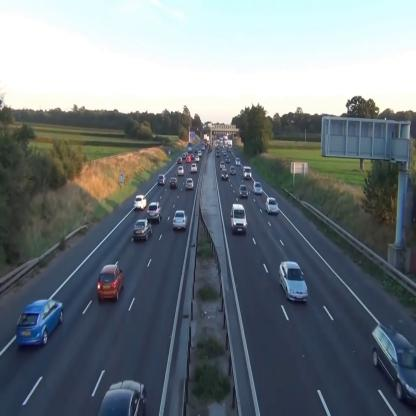car: (371, 322, 416, 408), (15, 298, 64, 348), (96, 379, 146, 416), (279, 261, 308, 305), (98, 264, 124, 302), (133, 219, 152, 242), (172, 209, 188, 232), (147, 202, 163, 223), (265, 197, 280, 216), (134, 194, 146, 210), (253, 180, 263, 196), (243, 165, 253, 180), (239, 184, 248, 198), (158, 173, 166, 185), (170, 177, 178, 189), (221, 168, 229, 180), (186, 178, 194, 189), (190, 162, 197, 174), (178, 165, 184, 176), (230, 166, 236, 176), (235, 157, 241, 167), (186, 156, 191, 164), (195, 155, 200, 162), (178, 157, 182, 164)
lorry: (230, 203, 247, 236), (188, 142, 192, 153)
